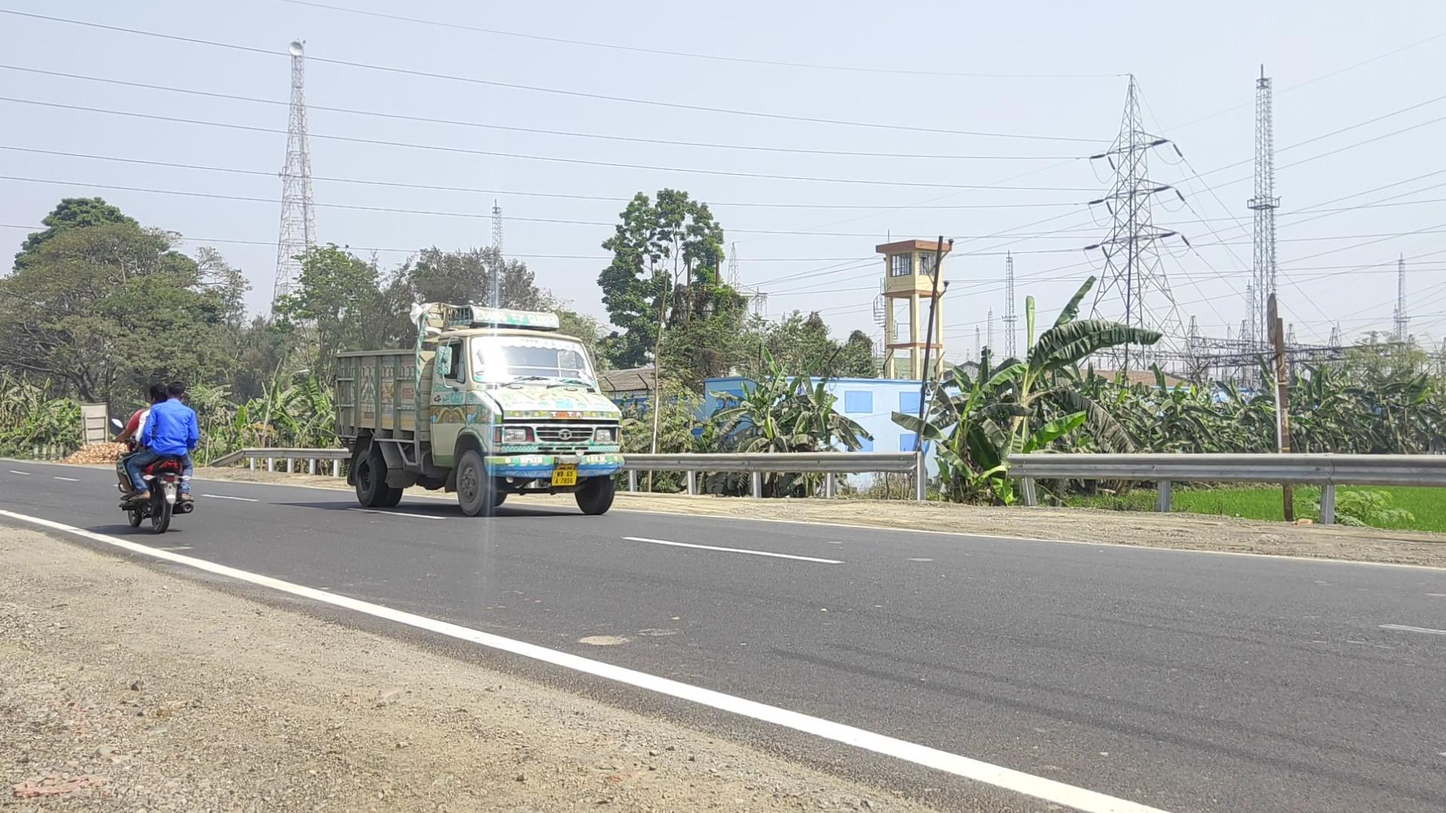bike: (111, 381, 200, 532)
truck: (335, 303, 624, 518)
